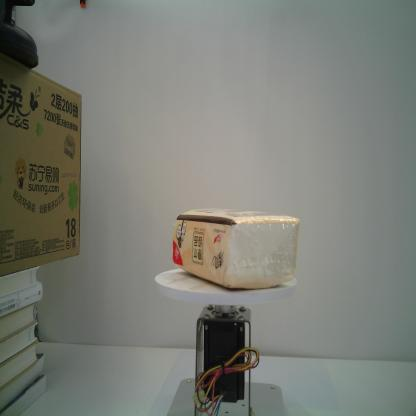Tissue: (171, 206, 301, 292)
